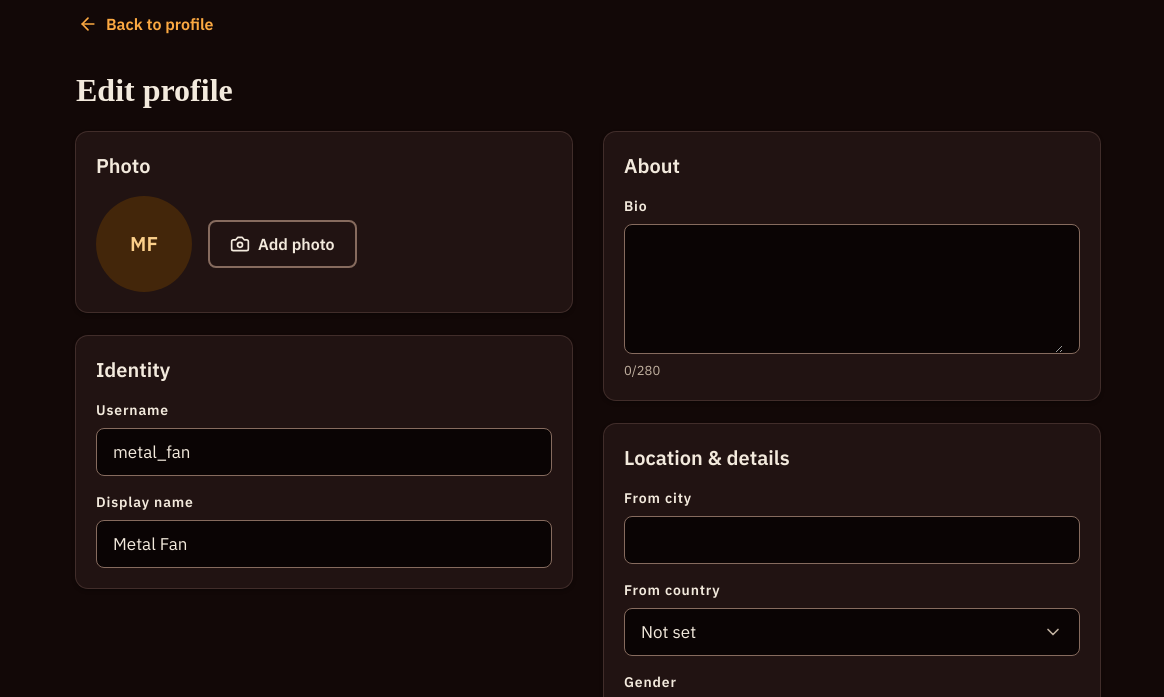
Test: username taken moves focus to Username
Type "x" into the field labelled "Display name".
click(324, 544); type("x")  # box [113,531,535,557]
(page scrolled)
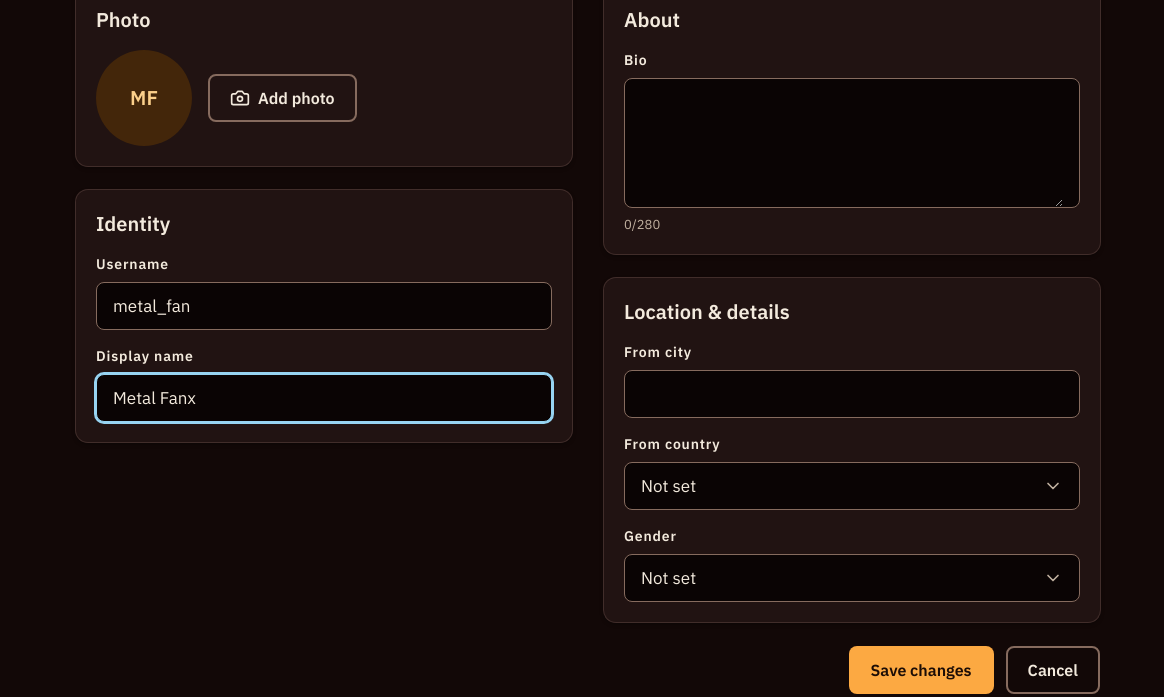
Click the button "Save changes".
click(921, 670)  # box [849,646,994,694]
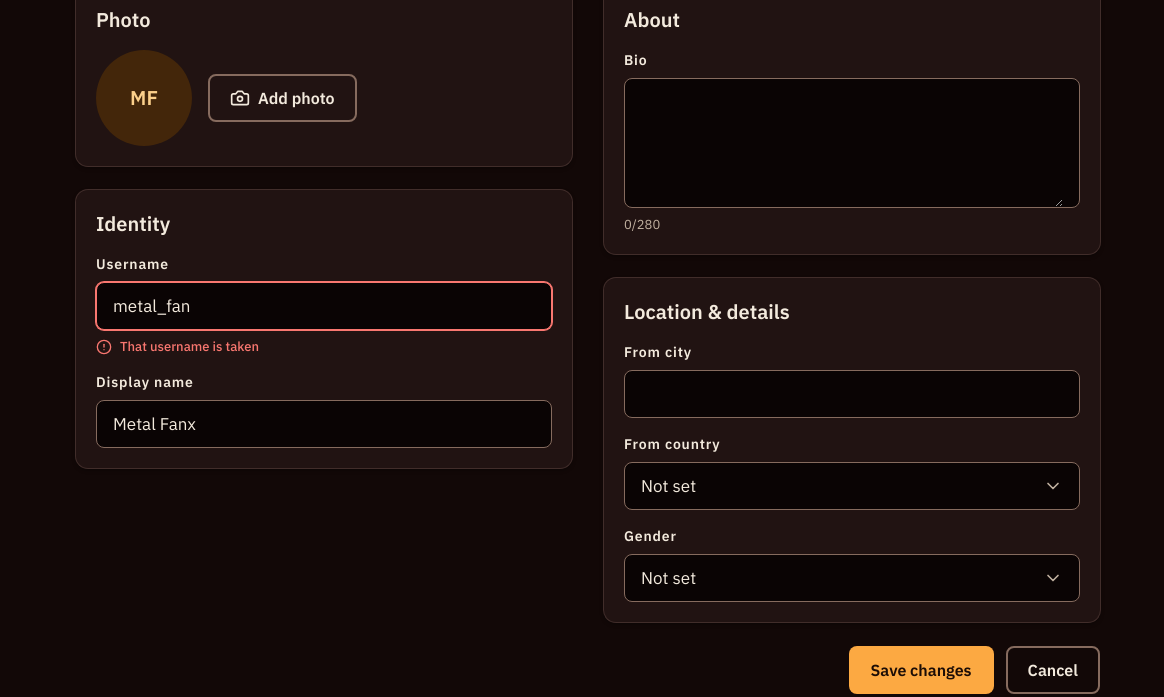
Expected: the text "That username is taken" is shown, [120,338,259,356]
